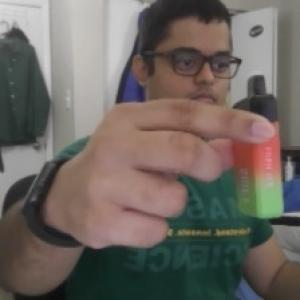Swift-E-Ciggirate: (232, 68, 292, 226)
